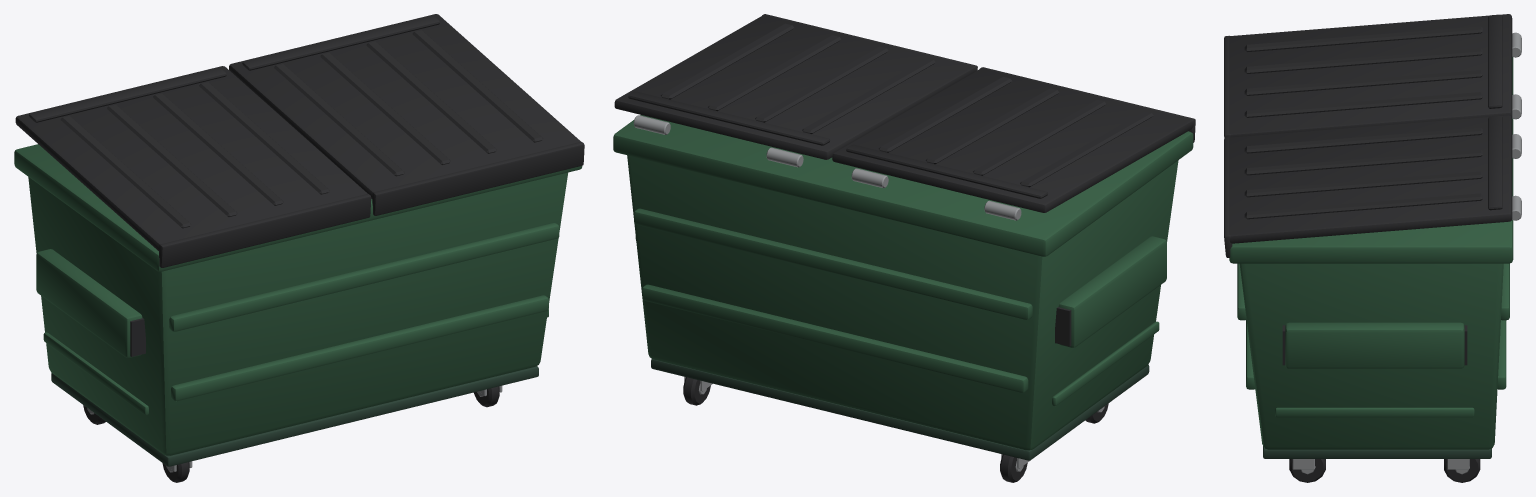
The model's file is Dumpster.fbx.
3 views of the same model, side by side, from view 1: azimuth 30°, elevation 25°; view 2: azimuth 150°, elevation 25°; view 3: azimuth 270°, elevation 25° (orthographic). The views are drawn at different scales.
Visible parts, largest first — view 1: Dumpster_Mesh; view 2: Dumpster_Mesh; view 3: Dumpster_Mesh.
Boxes of the visible parts, x1,y1,x2,y2 form: Dumpster_Mesh: (14, 14, 584, 482); Dumpster_Mesh: (613, 14, 1195, 482); Dumpster_Mesh: (1224, 14, 1521, 482).
Bounding box in the file's own units: 1.95 × 1.32 × 1.2.
